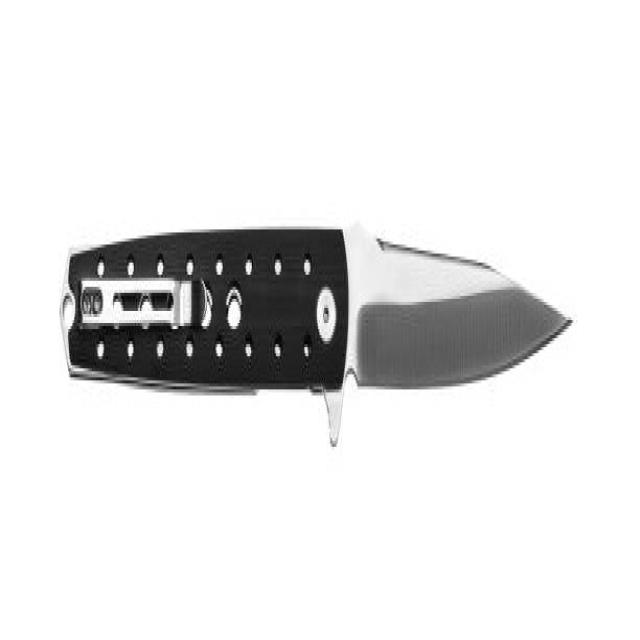knife: (59, 202, 578, 451)
